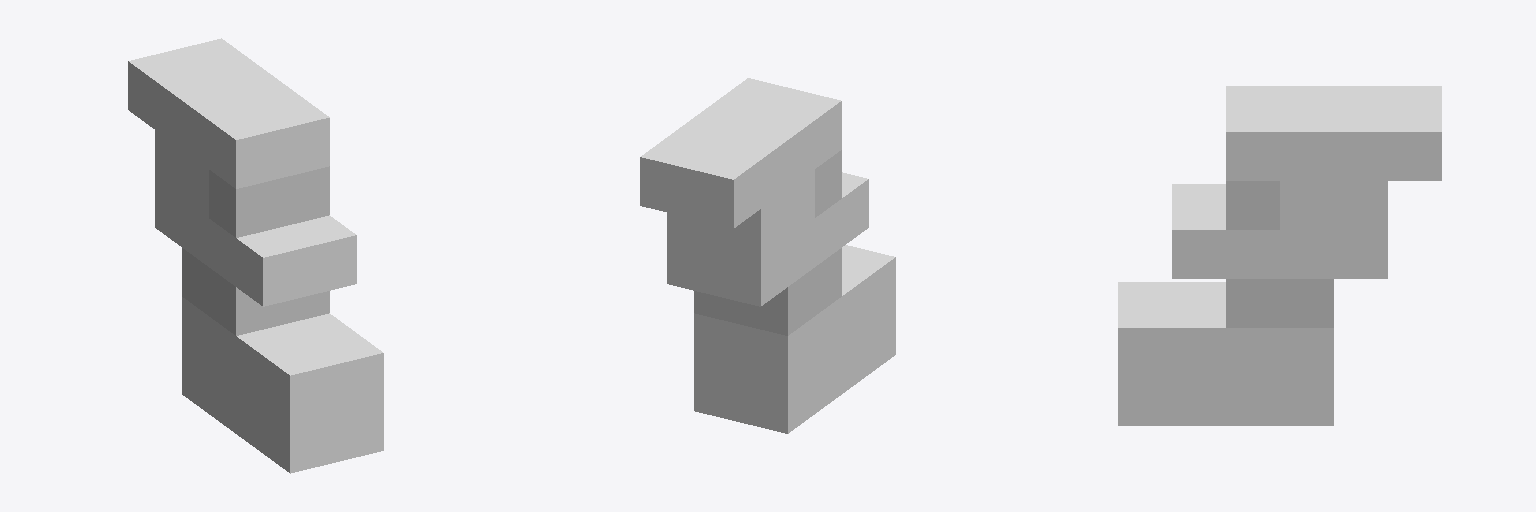
3 renders of one model, left to right at view 1: azimuth 30°, elevation 25°; view 2: azimuth 150°, elevation 25°; view 3: azimuth 270°, elevation 25°, orthographic.
Visible parts, largest first — view 1: object 1; view 2: object 1; view 3: object 1.
Part boxes in pixels (x1,y1,x2,y2): object 1: (128,38,383,473); object 1: (640,78,895,433); object 1: (1118,86,1441,425).
Size of the model in its own units: 0.2 by 0.6 by 0.6.
1 materials, 1 textured.